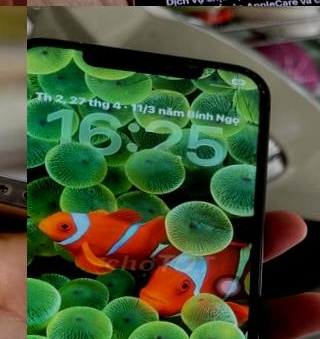scratch: (0, 172, 22, 207), (174, 53, 204, 70), (250, 72, 268, 96), (230, 64, 250, 78), (208, 59, 226, 69)
